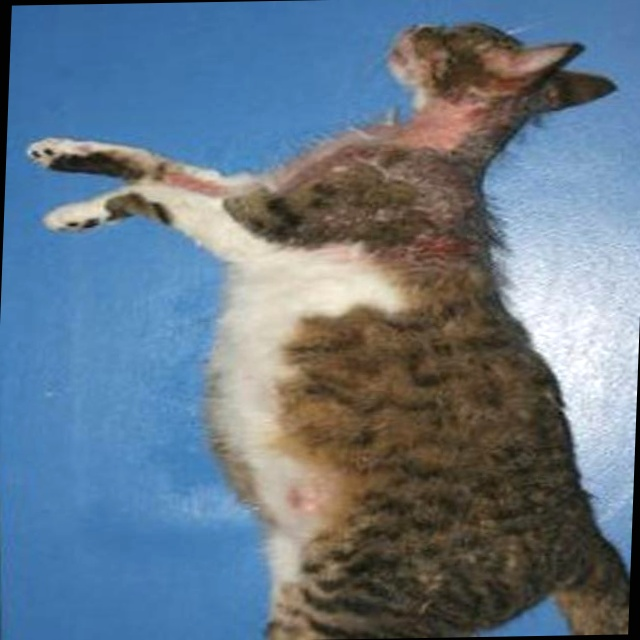hairloss: (208, 249, 393, 563)
